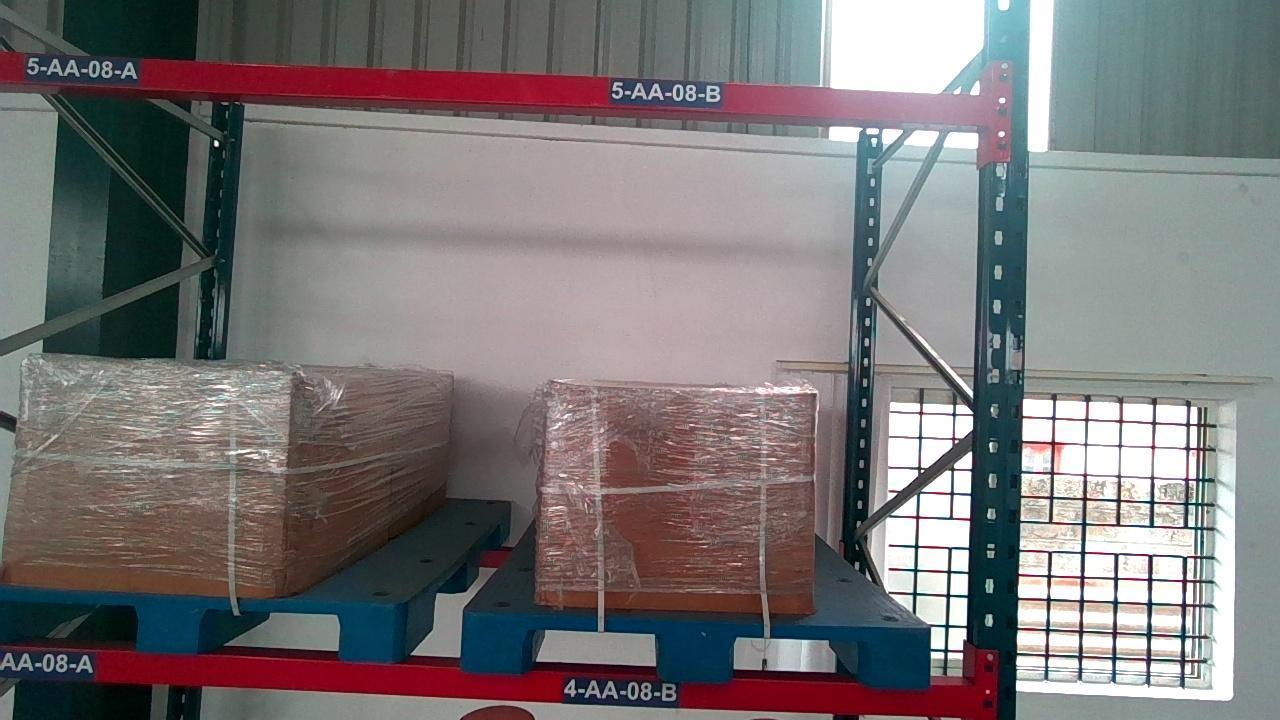h_rack: (0, 57, 985, 122), (0, 655, 974, 715)
small_pallet: (460, 618, 929, 679), (0, 591, 394, 654)
